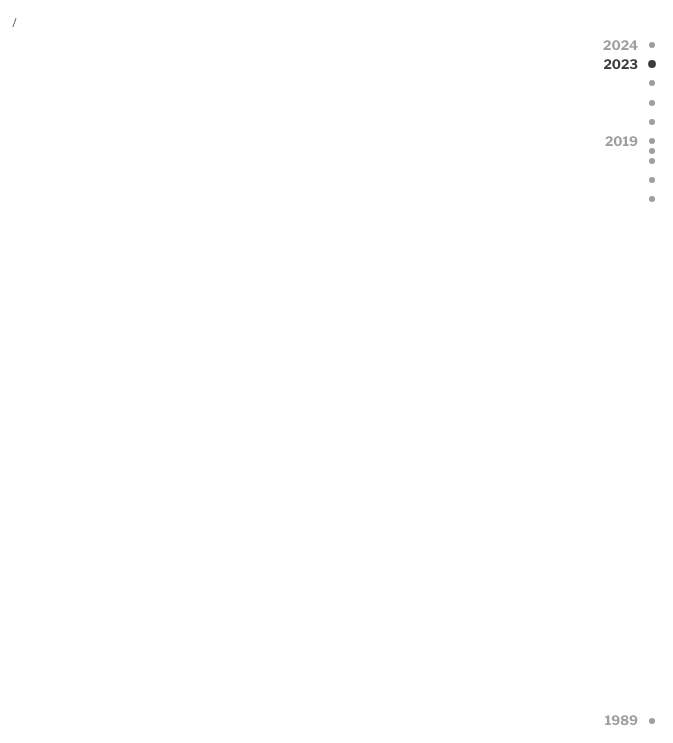
Test: ExhibitionsTimeline › navigates to the same exhibition the floating label names for a given pointer position, even when a different link's own DOM node receives the click
Click the link named "1989".
click(652, 721)  # box [649,718,655,724]
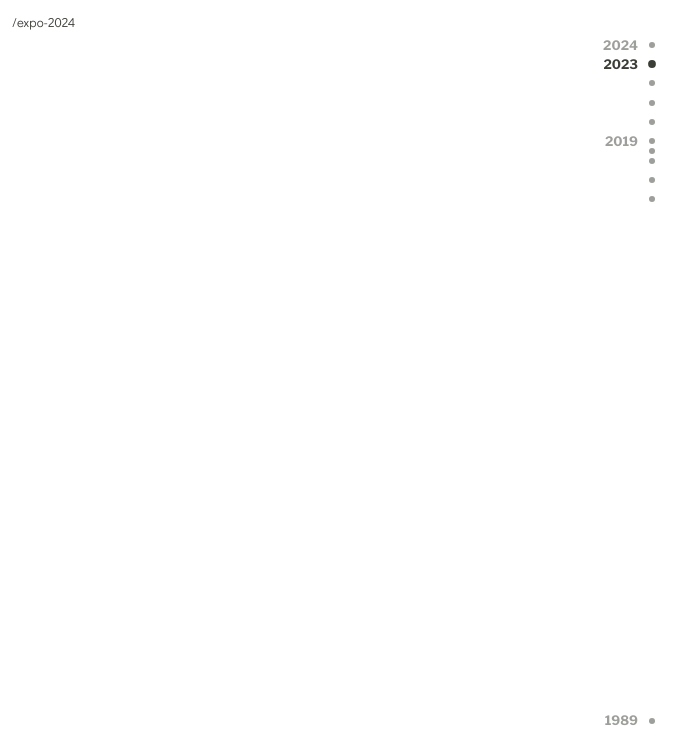
Expected: the text with test id "location" reads "/expo-2024", [12,13,75,30]
